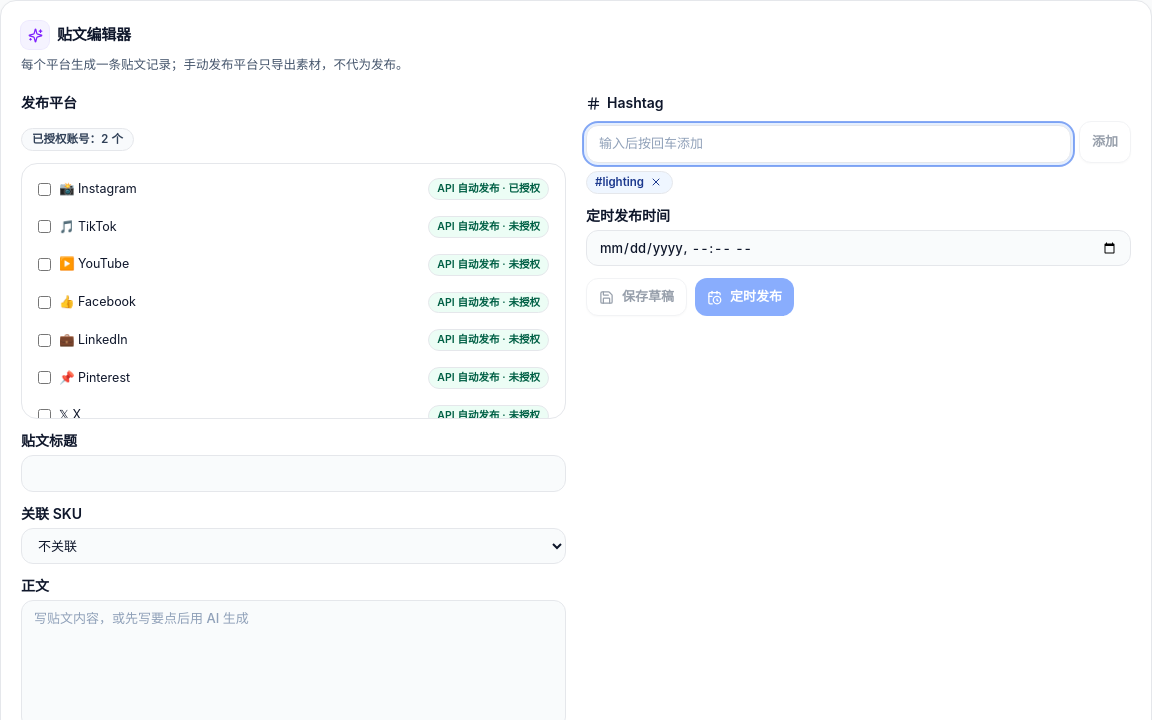
Test case: social components › manages hashtags, AI captions, drafts, and blocks scheduling on manual platforms
Earlier steps of the test are not shown.
Later steps or results of the test are not shown.
Type "#Lighting" into the field named "Hashtag" at (828, 144), box [586,125,1071,162]
Then press Enter
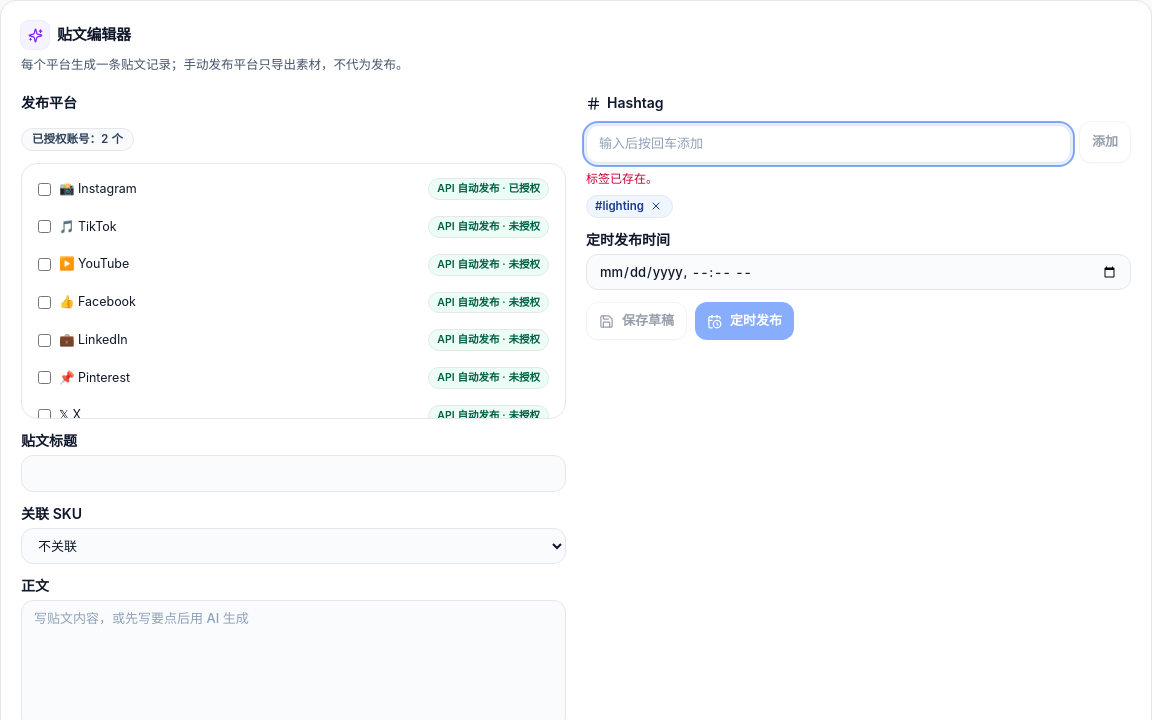
Type "led" into the field named "Hashtag" at (828, 144), box [586,125,1071,162]
Then press Enter
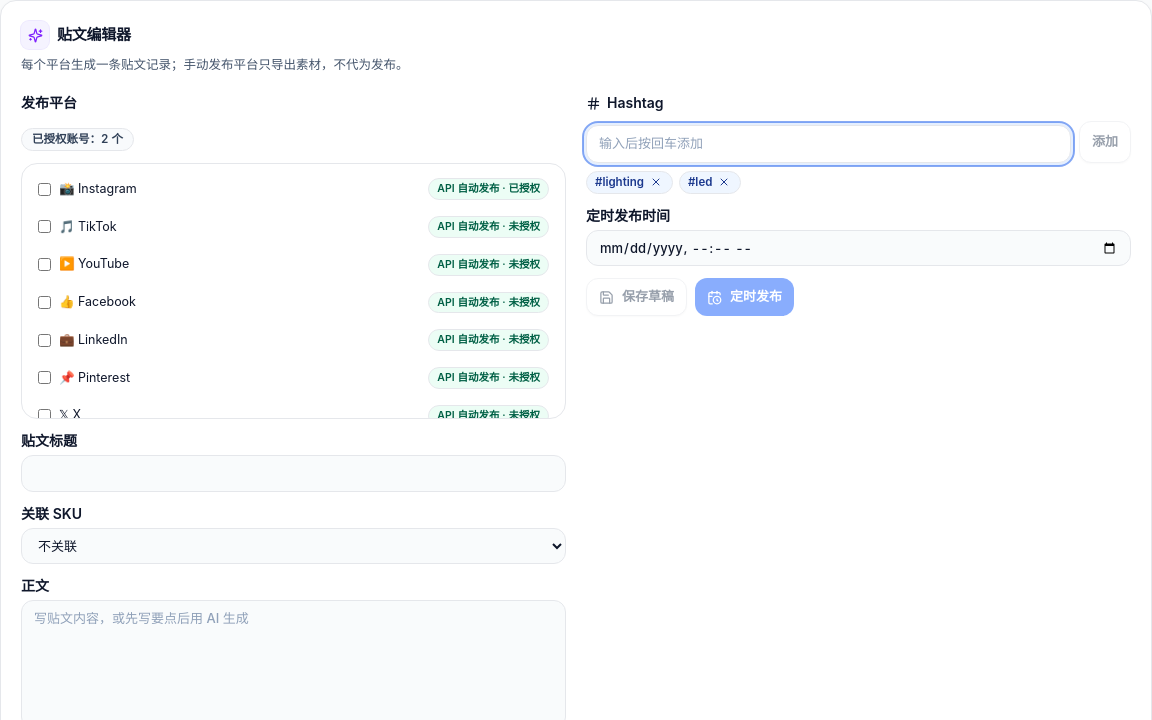
expect the number of buttons named "移除标签" is 2: met, box [648,174,664,190]; [716,174,732,190]
Select "LED-1 · 工作灯" in the dropdown labelled "关联 SKU" at (294, 546), box [21,528,566,564]
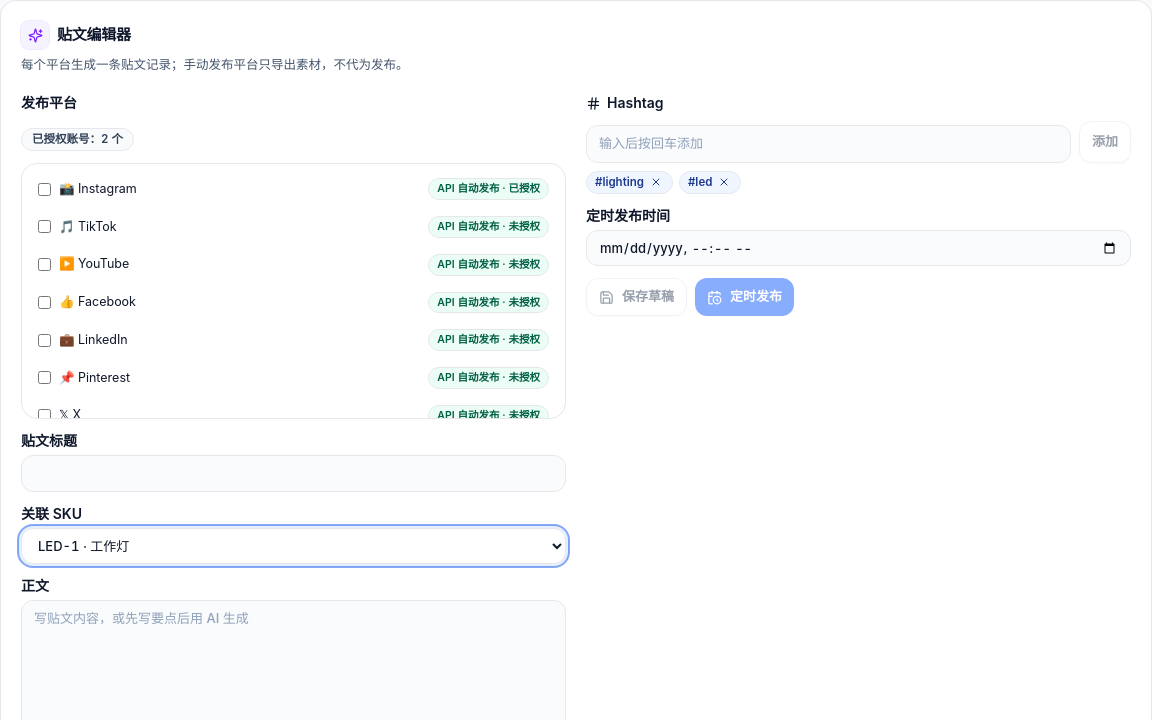
Click the checkbox labelled "Instagram" at (44, 189), box [38,183,51,196]
(page scrolled)
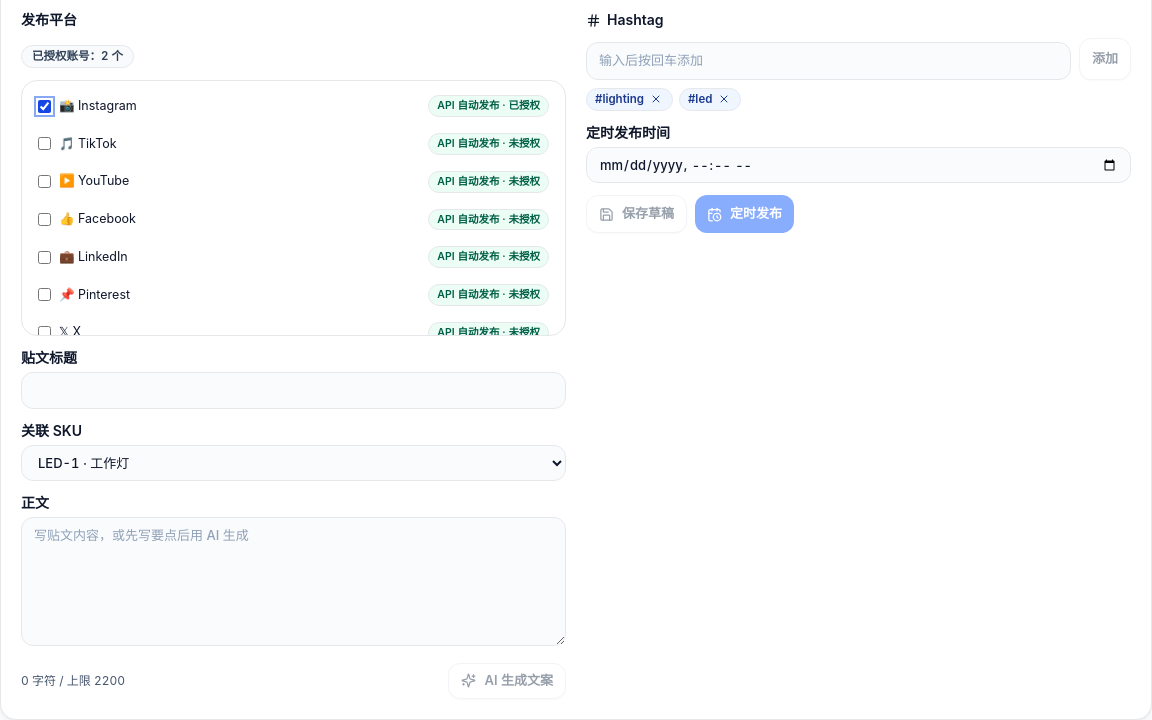
Type "工厂直供 LED 工作灯" into the text box labelled "正文" at (294, 582), box [21,517,566,646]
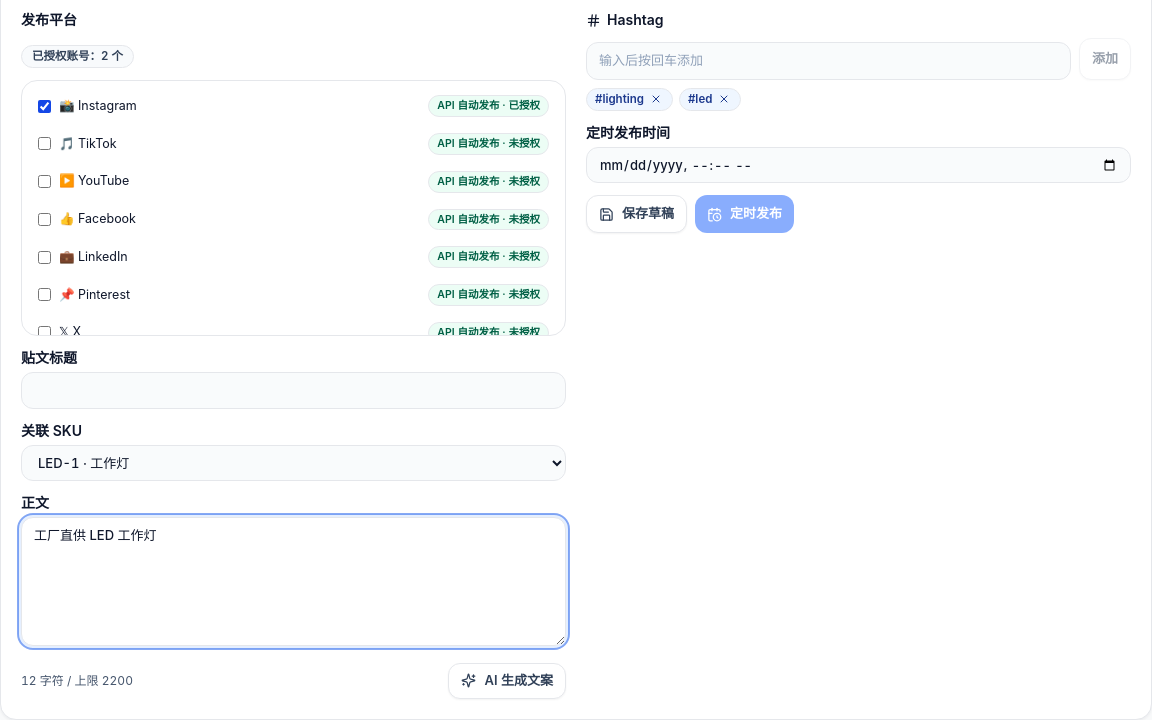
Click the button "AI 生成文案" at (507, 681), box [448,663,566,698]
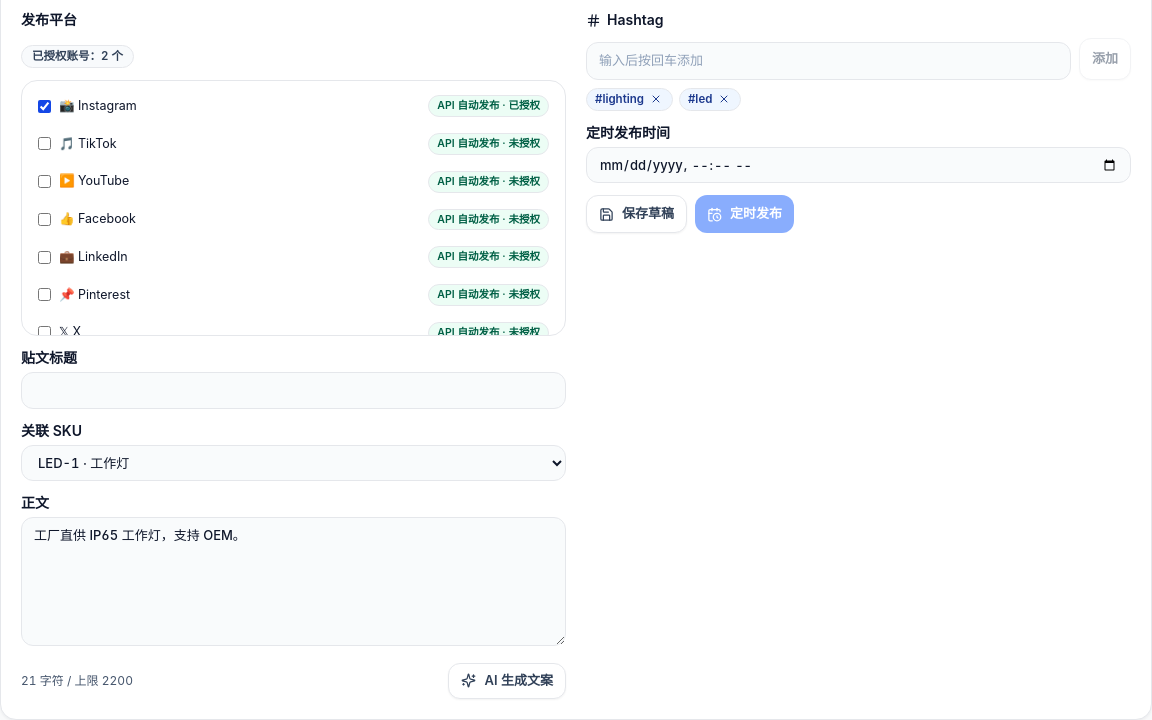
expect the text box showing "工厂直供 IP65 工作灯，支持 OEM。" is shown: met, box [21,517,566,646]
